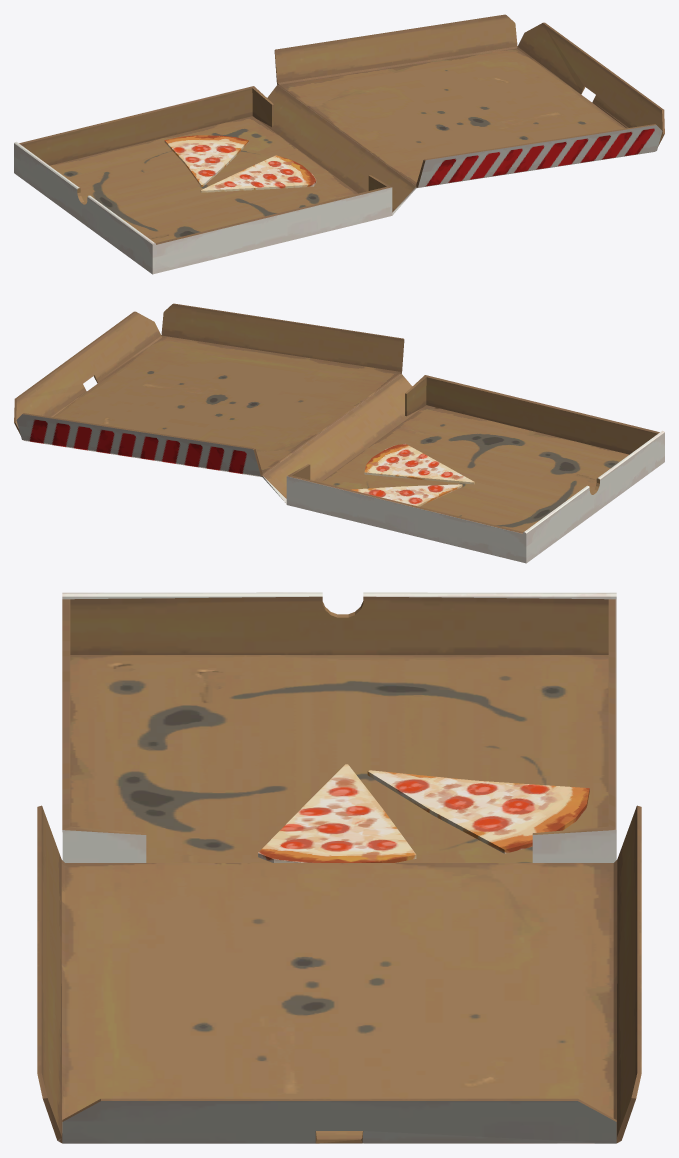
The model's file is IXTJN0D8HCSIG6PTOAWHF46UO.obj.
3 renders of one model, top to bottom at view 1: azimuth 30°, elevation 25°; view 2: azimuth 150°, elevation 25°; view 3: azimuth 270°, elevation 25°, orthographic. The views are drawn at different scales.
Visible parts, largest first — view 1: Object_Model001_Material001; view 2: Object_Model001_Material001; view 3: Object_Model001_Material001.
Part boxes in pixels (<box>): Object_Model001_Material001: <box>14,14,664,274</box>; Object_Model001_Material001: <box>14,303,664,563</box>; Object_Model001_Material001: <box>37,592,641,1143</box>.
Size of the model in its own units: 2.5 by 0.2474 by 1.25.
Materials: 1 (1 with a texture image).
